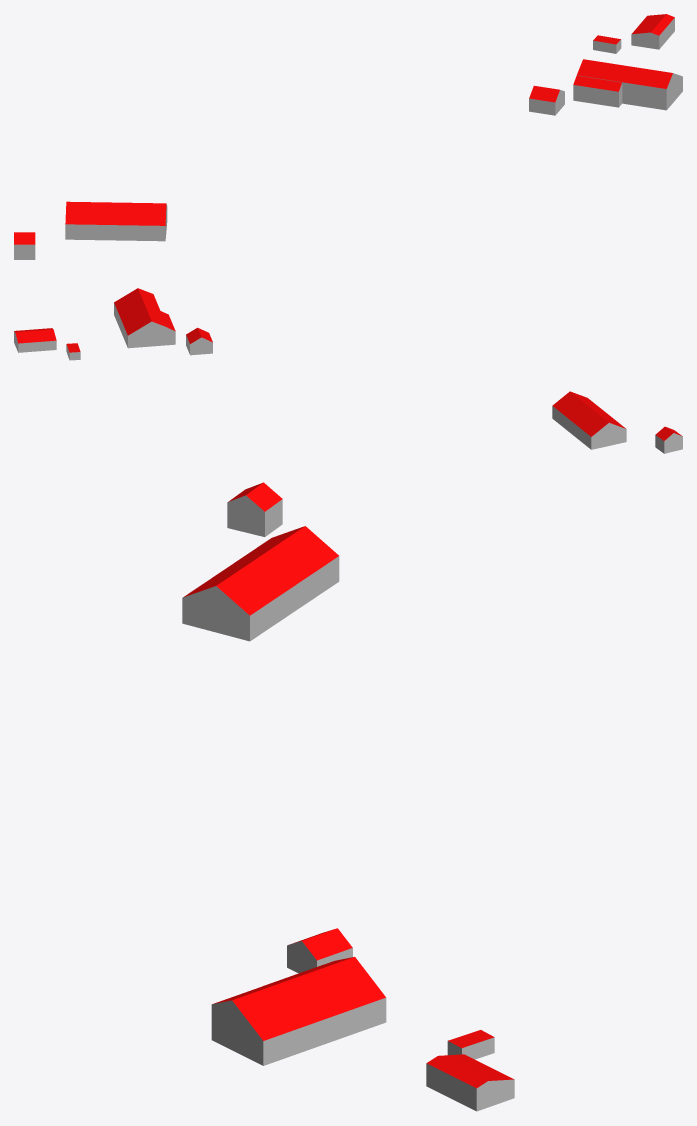
3 renders of one model, top to bottom at view 1: azimuth 30°, elevation 25°; view 2: azimuth 150°, elevation 25°; view 3: azimuth 270°, elevation 25°, orthographic. The views are drawn at different scales.
Size of the model in its own units: 181 by 7.09 by 42.66.
